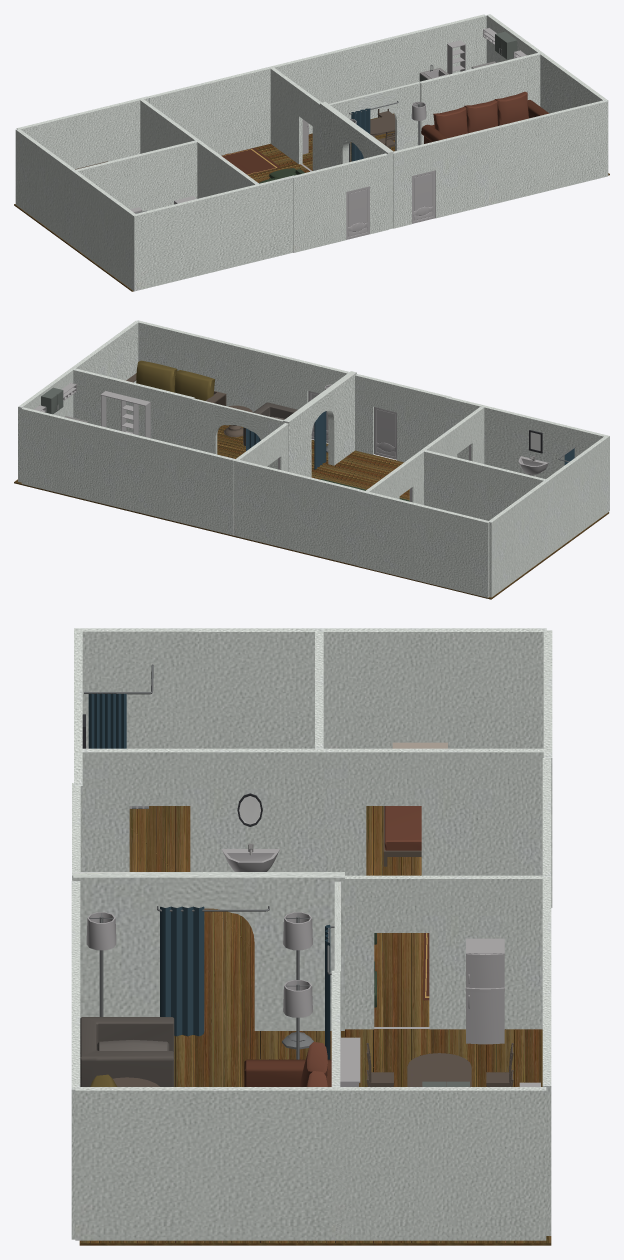
The picture shows the model from 3 angles, top to bottom: view 1: azimuth 30°, elevation 25°; view 2: azimuth 150°, elevation 25°; view 3: azimuth 270°, elevation 25°; orthographic projection. The views are drawn at different scales.
Visible parts, largest first — view 1: Object_10, Object_20, Object_3, Object_18, Object_2; view 2: Object_10, Object_20, Object_18, Object_3, Object_2; view 3: Object_10, Object_20, Object_2, Object_18.
Boxes of the visible parts, bbox=[...] form: Object_10: bbox=[15, 14, 608, 291]; Object_20: bbox=[75, 28, 549, 239]; Object_3: bbox=[293, 153, 388, 252]; Object_18: bbox=[320, 82, 420, 229]; Object_2: bbox=[14, 113, 609, 291]; Object_10: bbox=[18, 320, 609, 597]; Object_20: bbox=[34, 360, 575, 501]; Object_18: bbox=[192, 371, 356, 477]; Object_3: bbox=[355, 374, 451, 462]; Object_2: bbox=[14, 425, 609, 599]; Object_10: bbox=[71, 628, 552, 1240]; Object_20: bbox=[80, 664, 540, 1086]; Object_2: bbox=[79, 806, 551, 1245]; Object_18: bbox=[73, 872, 344, 1037].
Size of the model in its own units: 2338 by 365 by 1019.
7 materials, 7 textured.
